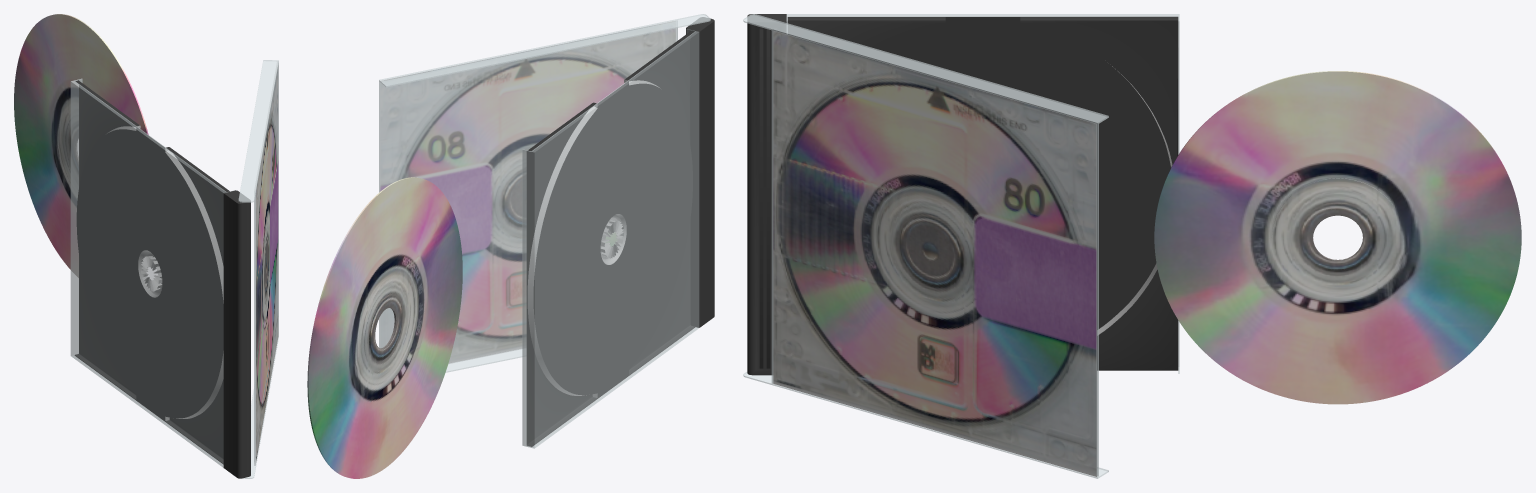
The model's file is Yandhi.glb.
The picture shows the model from 3 angles, left to right: view 1: azimuth 30°, elevation 25°; view 2: azimuth 150°, elevation 25°; view 3: azimuth 270°, elevation 25°; orthographic projection. The views are drawn at different scales.
Parts seen in each view (by area): view 1: Case Back_2, CD_1, Case Front_0; view 2: Case Back_2, Case Front_0, CD_1; view 3: Case Front_0, CD_1, Case Back_2.
Boxes of the visible parts, x1,y1,x2,y2 form: Case Back_2: (70, 78, 250, 478); CD_1: (14, 14, 148, 277); Case Front_0: (238, 60, 278, 478); Case Back_2: (522, 17, 714, 448); Case Front_0: (379, 14, 710, 372); CD_1: (307, 177, 462, 478); Case Front_0: (743, 14, 1108, 478); CD_1: (1154, 71, 1521, 404); Case Back_2: (747, 14, 1179, 375).
Size of what is drawn, in the model's own units: 1.33 by 2 by 3.96.
Materials: 7 (3 with a texture image).
